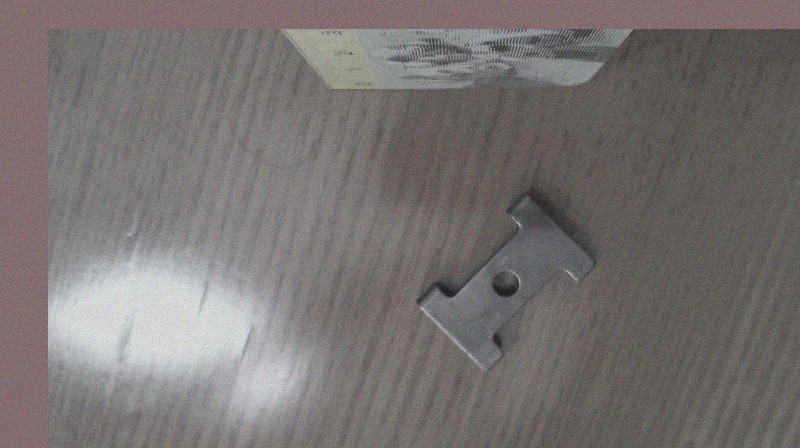O002: (409, 189, 601, 376)
